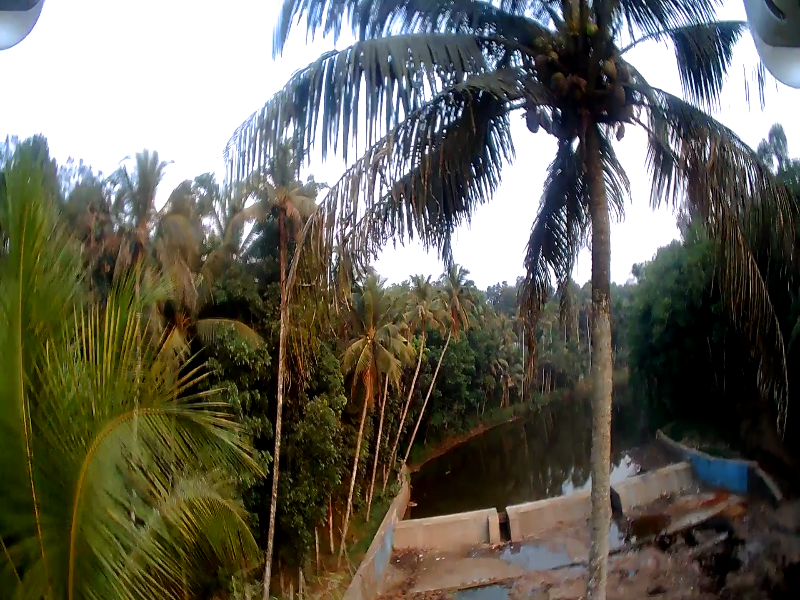coconut: (597, 63, 619, 79), (552, 71, 567, 94), (526, 110, 540, 132), (611, 87, 626, 107), (584, 19, 593, 36), (615, 126, 628, 137)
